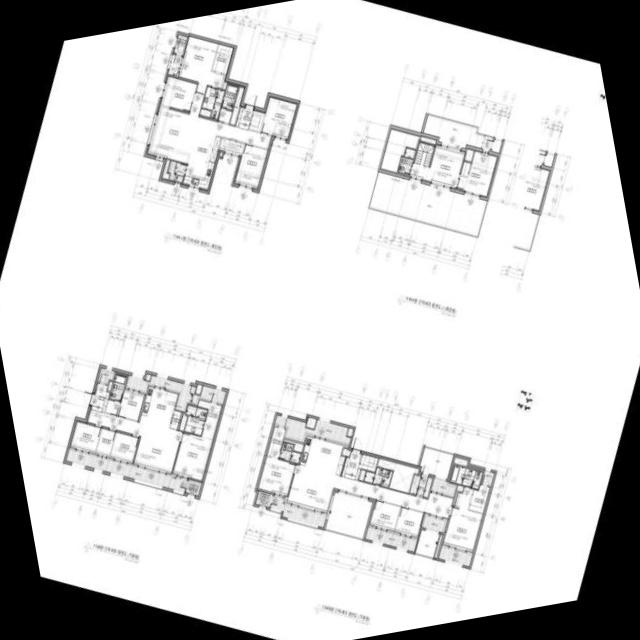background: (0, 0, 640, 640)
space_balconi: (66, 449, 187, 492), (125, 375, 198, 413), (274, 415, 350, 444), (325, 492, 372, 538), (270, 495, 326, 527), (364, 527, 416, 552), (419, 448, 453, 478), (438, 546, 472, 566), (415, 530, 439, 557), (409, 475, 432, 497), (200, 386, 226, 403), (431, 478, 455, 495), (167, 161, 186, 182), (423, 516, 445, 532), (168, 54, 181, 76), (98, 368, 115, 384), (482, 470, 494, 485)
space_bedroom: (178, 36, 225, 94), (443, 487, 482, 551), (172, 432, 213, 481), (456, 151, 497, 196), (260, 96, 297, 139), (258, 456, 295, 496), (235, 144, 268, 188), (160, 76, 196, 112), (69, 421, 101, 453), (369, 500, 400, 531), (109, 432, 138, 463), (394, 507, 423, 537), (117, 389, 144, 420)
space_dressroom: (196, 400, 222, 440), (211, 44, 233, 74), (266, 426, 285, 459), (468, 485, 489, 513)
space_front: (342, 449, 361, 480), (91, 383, 109, 412), (235, 106, 253, 130)
space_kitchen: (183, 131, 221, 189), (300, 436, 347, 475), (139, 386, 178, 429)
space_living_room: (286, 464, 453, 518), (147, 93, 271, 163), (87, 410, 181, 473), (409, 145, 464, 188)
space_other: (369, 172, 486, 235), (423, 116, 492, 150), (380, 129, 419, 173), (377, 458, 418, 493), (95, 428, 115, 457), (229, 87, 244, 125), (414, 142, 434, 167), (219, 138, 244, 155), (358, 454, 378, 472), (249, 110, 264, 131), (283, 438, 303, 452), (105, 399, 120, 415), (452, 485, 463, 505), (217, 109, 232, 123), (170, 410, 181, 429), (434, 535, 442, 558), (460, 161, 470, 176), (179, 413, 187, 431), (420, 135, 436, 144), (491, 139, 501, 153), (162, 159, 169, 179), (464, 148, 474, 162), (453, 458, 467, 466), (306, 417, 316, 428), (341, 448, 350, 456), (195, 384, 202, 394), (359, 470, 365, 481), (107, 381, 112, 391), (347, 428, 353, 436), (223, 81, 227, 89), (145, 374, 150, 380), (219, 152, 222, 156)
space_outdoor_room: (173, 34, 187, 55), (255, 491, 272, 508), (185, 479, 201, 496)
space_toilet: (199, 86, 224, 119), (450, 465, 482, 489), (184, 405, 207, 435), (364, 467, 392, 487), (109, 374, 126, 401), (398, 148, 415, 174), (221, 84, 238, 110), (279, 442, 300, 463)
